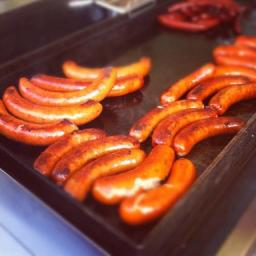hotdog: (118, 156, 201, 224), (99, 148, 183, 200), (177, 60, 247, 122), (5, 82, 95, 118), (0, 96, 63, 136), (146, 119, 224, 149), (36, 70, 144, 90), (19, 76, 117, 96), (56, 129, 140, 151), (60, 156, 104, 196), (205, 42, 253, 78), (131, 102, 170, 144), (60, 57, 150, 75), (161, 83, 193, 123), (104, 150, 148, 166), (31, 144, 58, 170), (235, 33, 256, 40)
